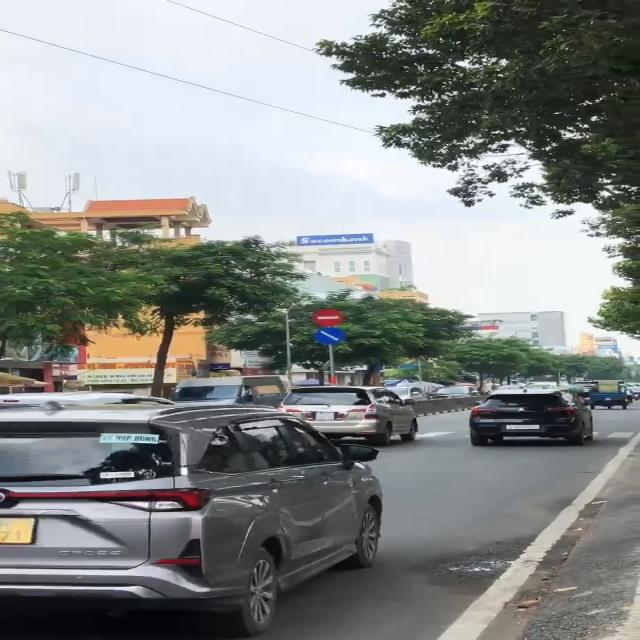Bien bao cam di nguoc chieu: (310, 307, 345, 325)
Bien bao huong phai di vong chuong ngai vat: (312, 327, 348, 345)
